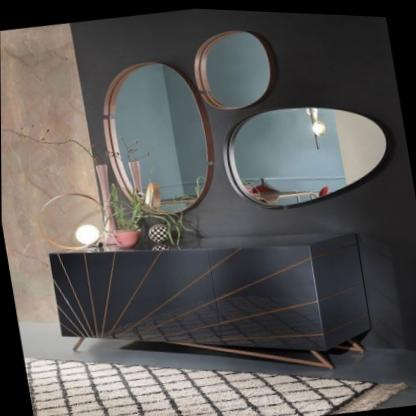Sideboard: (49, 229, 374, 365)
